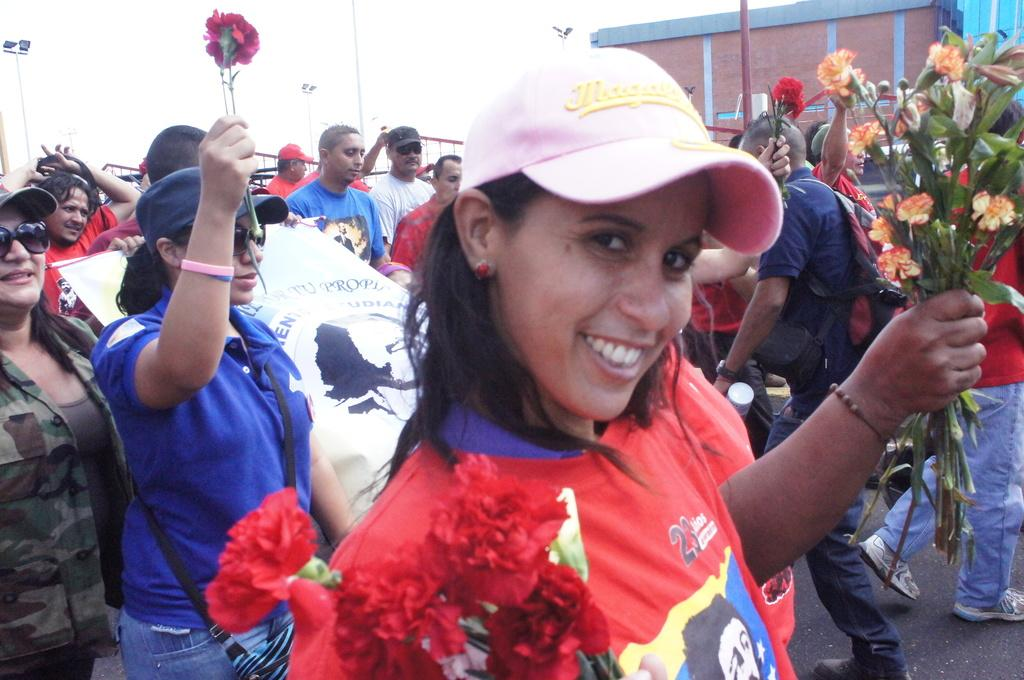Hat: (455, 47, 782, 256), (134, 162, 289, 257), (0, 187, 62, 216), (274, 142, 316, 164), (385, 125, 421, 150)
